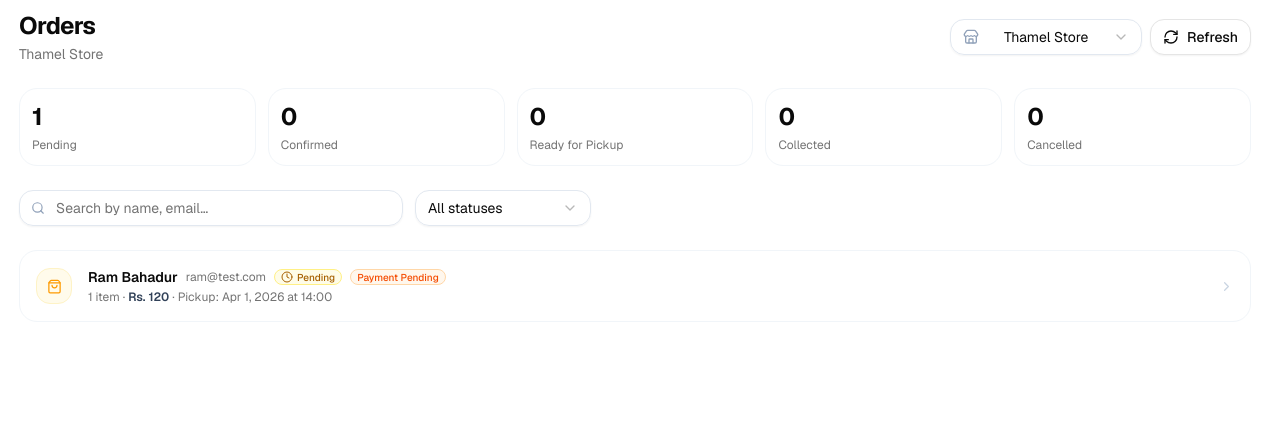
it: AdminOrdersPage › filters out orders when search term doesn't match
The width and height of the screenshot is (1268, 427).
Expected: the text "Ram Bahadur" is shown, [88, 267, 178, 287]
Step 1. Type "nonexistent" into the field with placeholder "Search by name, email…" → coordinates (211, 208), box [19, 190, 403, 226]
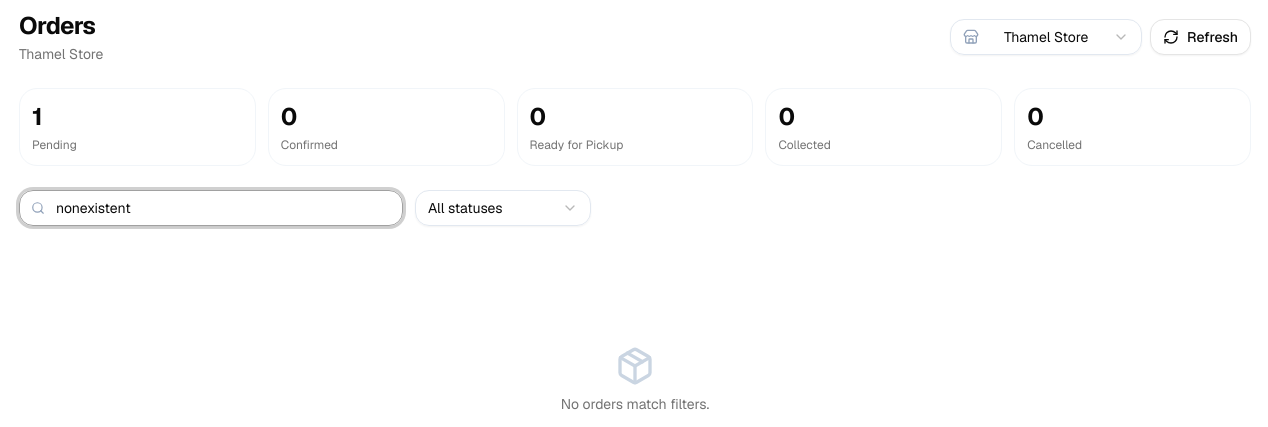
Expected: the button "Ram Bahadur" is gone
